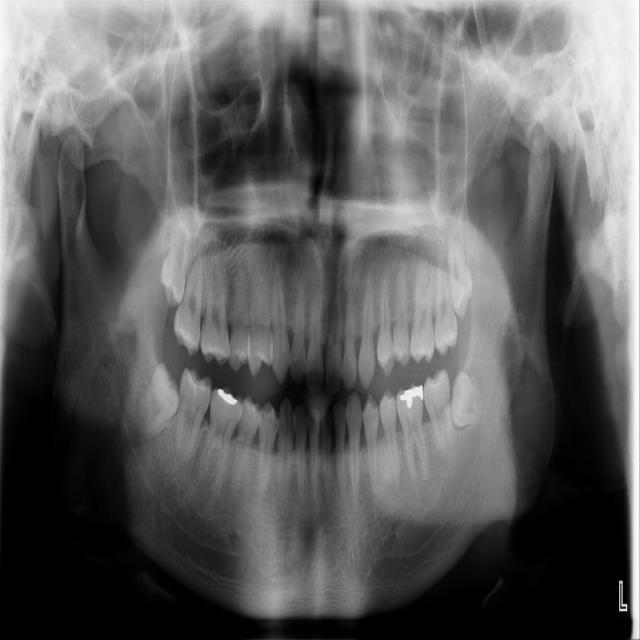3M ESPE Implant: (156, 205, 197, 310)
52: (198, 381, 252, 436), (395, 380, 426, 428)
73: (589, 558, 591, 573)
BioHorizons Implant: (431, 235, 459, 357)
BioLife Implant: (439, 205, 477, 320)
Biomet 3i Implant: (441, 368, 485, 429)
Blue Sky Bio Implant: (420, 368, 456, 460)
Caries: (172, 238, 208, 358)
Implant: (172, 366, 215, 461)
Keystone Dental Implant: (126, 360, 195, 443)
